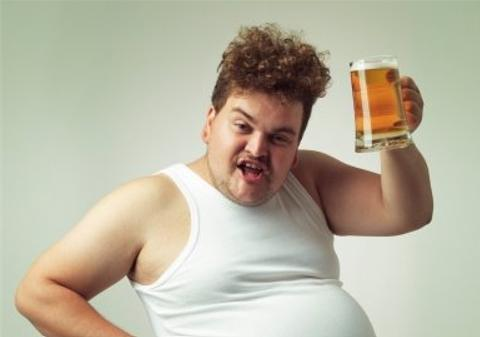Drunk: (216, 94, 296, 197)
